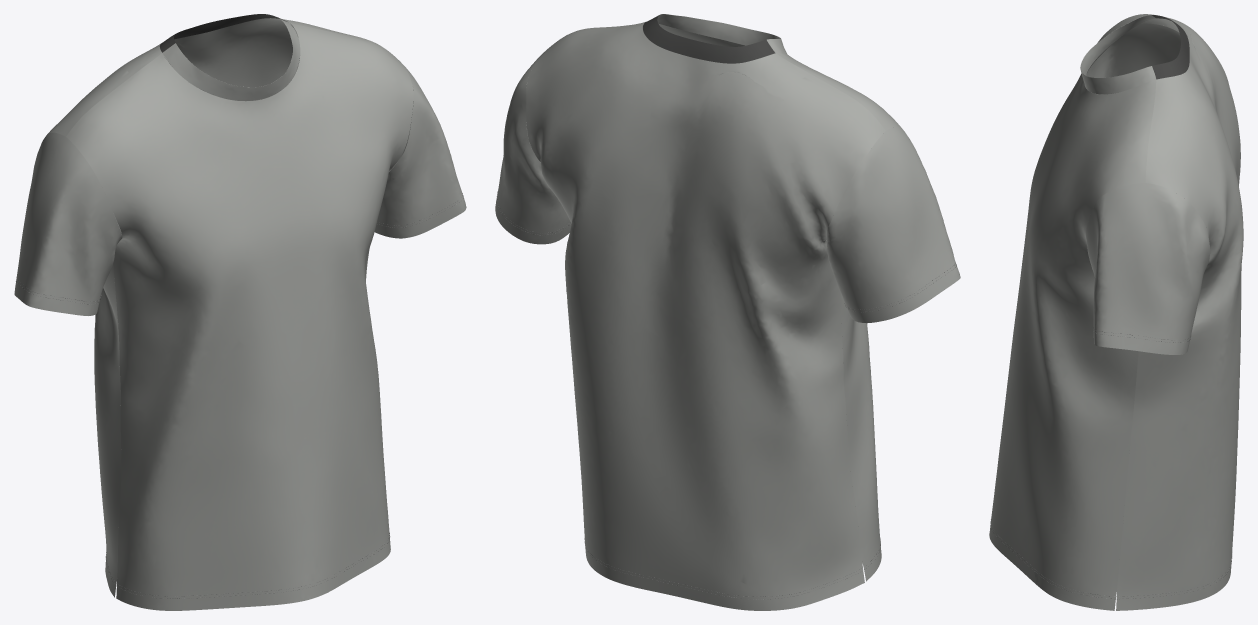
The model's file is tshirt-web.glb.
3 renders of one model, left to right at view 1: azimuth 30°, elevation 25°; view 2: azimuth 150°, elevation 25°; view 3: azimuth 270°, elevation 25°, orthographic. The views are drawn at different scales.
Parts seen in each view (by area): view 1: TShirtWeb; view 2: TShirtWeb; view 3: TShirtWeb.
Part boxes in pixels (x1=…): TShirtWeb: x1=14, y1=14, x2=466, y2=610; TShirtWeb: x1=495, y1=14, x2=960, y2=610; TShirtWeb: x1=989, y1=14, x2=1243, y2=610.
Size of the model in its own units: 0.2414 by 0.2796 by 0.125.
3 materials, 3 textured.
